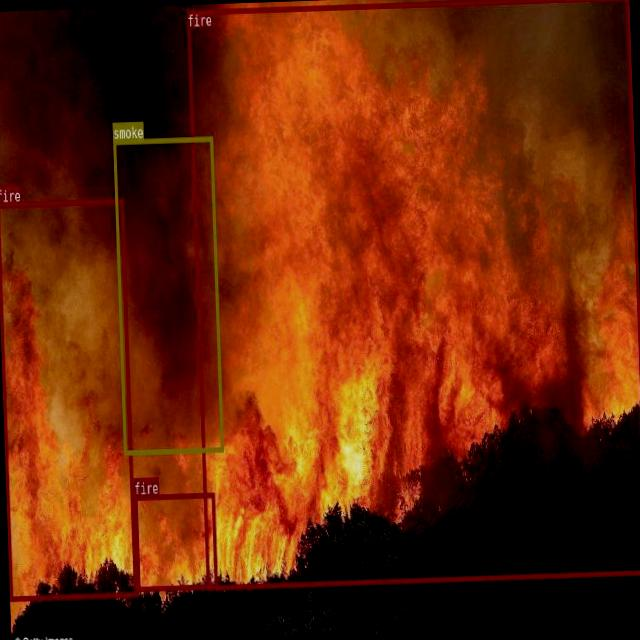fire: (185, 0, 640, 588), (0, 198, 135, 600), (134, 491, 216, 590)
smoke: (112, 136, 223, 454)
